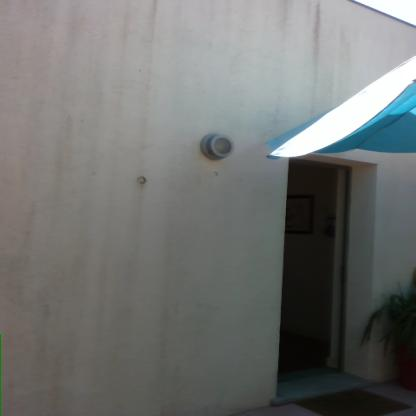open: (269, 149, 384, 403)
